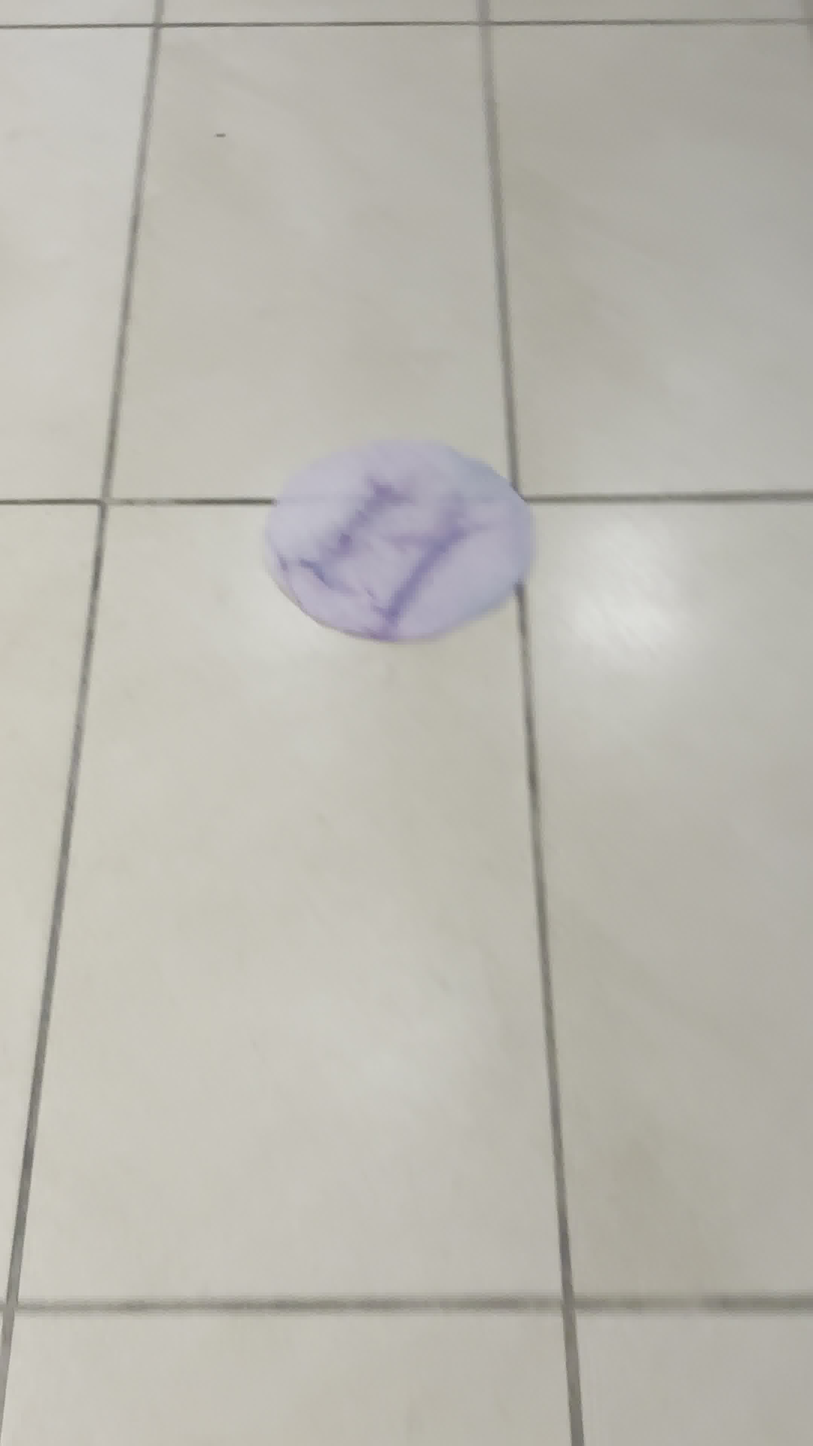Target: (261, 435, 535, 642)
